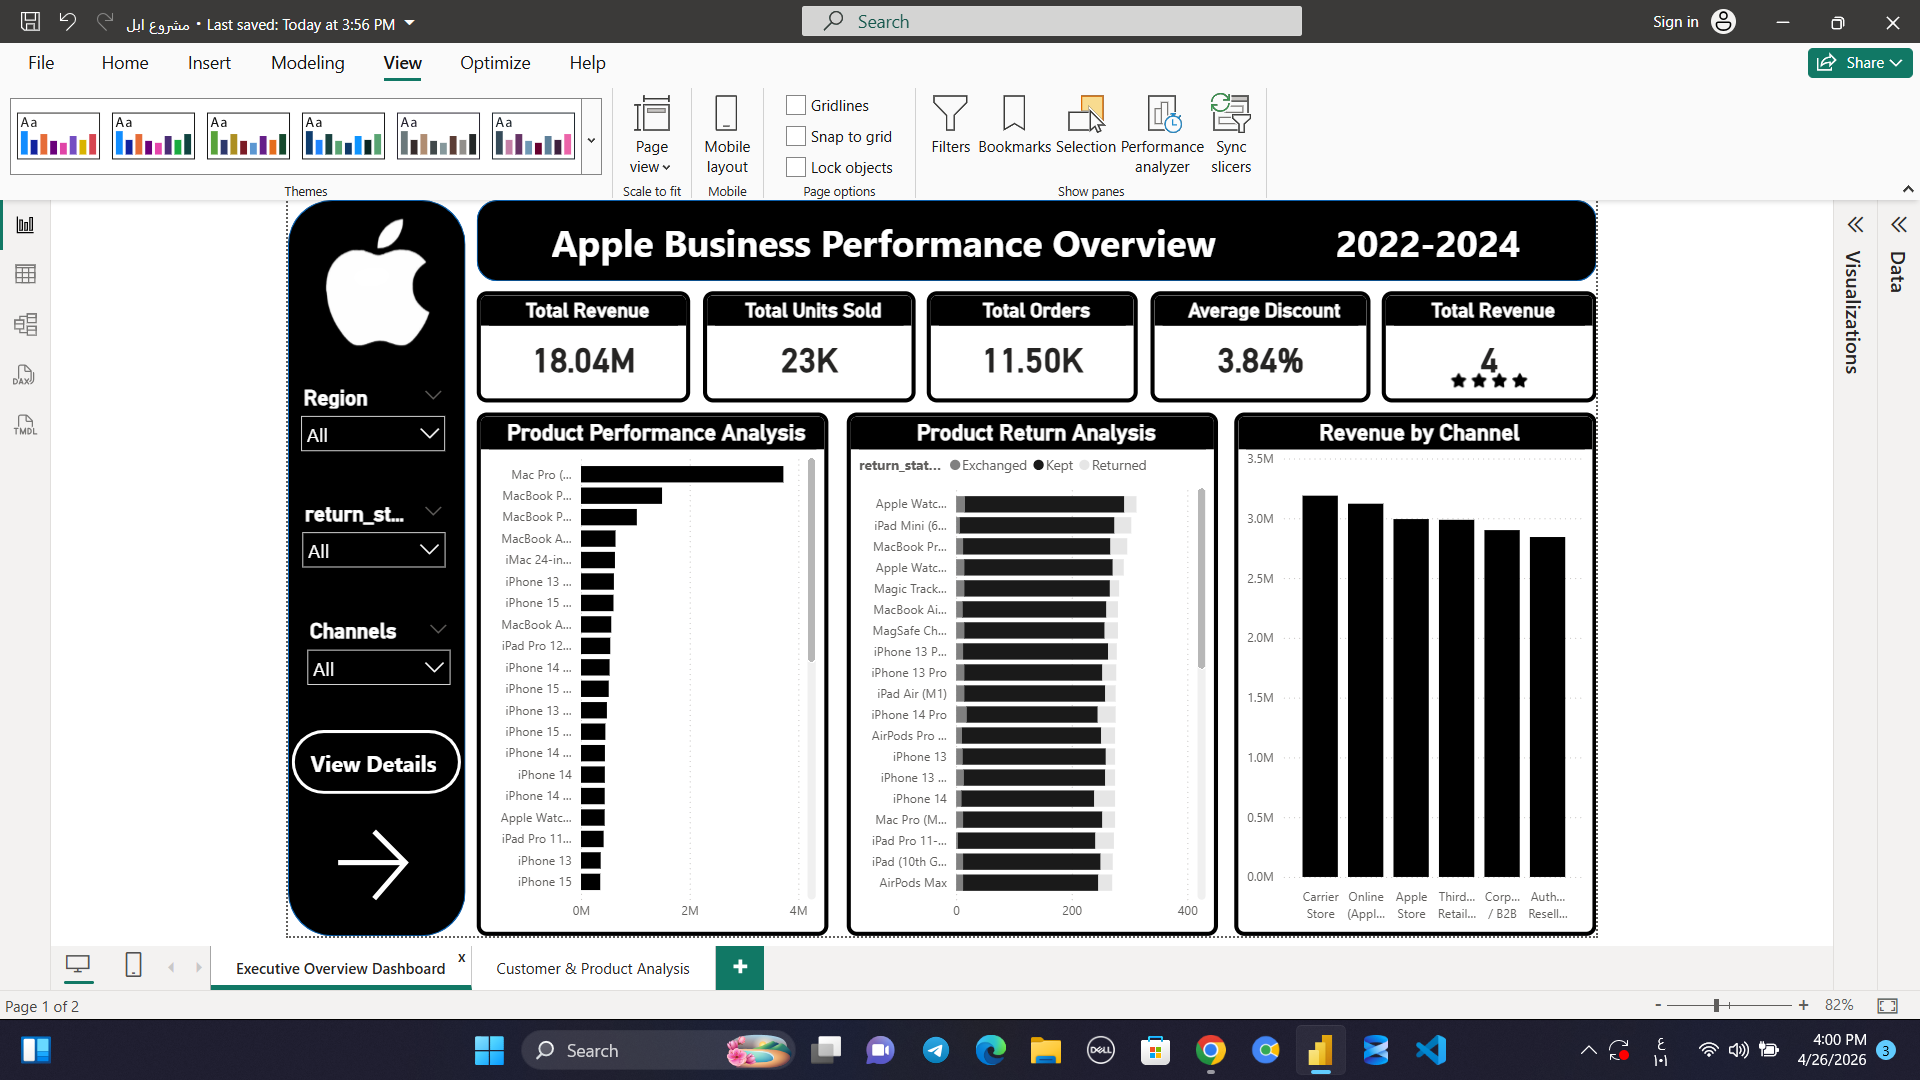

Layout of this report page (visuals, bound fields, positions):
{"tool":"powerbi","page":{"name":"Executive Overview Dashboard","canvas":[1280,720],"ordinal":0},"visuals":[{"type":"shape","box":[0,0,173.6,720.2],"z":0},{"type":"actionButton","box":[0,0,171.2,177.3],"z":1000},{"type":"shape","box":[184.6,0,1095.7,79.5],"z":2000},{"type":"actionButton","box":[239.7,12.2,686,55],"z":3000},{"type":"actionButton","box":[951.4,12.2,327.7,55],"z":4000},{"type":"card","title":"Total Revenue","fields":{"Values":["Sum(apple_global_sales_dataset.revenue_usd)"]},"box":[184.6,89.3,209.1,108.8],"z":5000},{"type":"card","title":"Total Units Sold","fields":{"Values":["Sum(apple_global_sales_dataset.units_sold)"]},"box":[405.4,89.3,207.9,108.8],"z":6000},{"type":"card","title":"Total Orders","fields":{"Values":["Count(apple_global_sales_dataset.sale_id)"]},"box":[624.9,89.3,206.7,108.8],"z":7000},{"type":"card","title":"Average Discount ","fields":{"Values":["apple_global_sales_dataset.Average Discount %"]},"box":[843.1,89.3,215.2,108.8],"z":8000},{"type":"card","title":"Total Revenue","fields":{"Values":["apple_global_sales_dataset.Avg Customer Rating"]},"box":[1069.7,89.3,210.3,108.8],"z":9000},{"type":"actionButton","box":[1127.5,127.2,95.4,99],"z":10000},{"type":"clusteredBarChart","title":"Product Performance Analysis","fields":{"Category":["apple_global_sales_dataset.product_name"],"Y":["Sum(apple_global_sales_dataset.revenue_usd)"]},"box":[184.6,207.9,343.6,512.4],"z":11000},{"type":"columnChart","title":"Revenue by Channel","fields":{"Category":["apple_global_sales_dataset.sales_channel"],"Y":["Sum(apple_global_sales_dataset.revenue_usd)"]},"box":[925.7,207.9,354.6,512.4],"z":12000},{"type":"barChart","title":"Product Return Analysis","fields":{"Category":["apple_global_sales_dataset.product_name"],"Y":["CountNonNull(apple_global_sales_dataset.sale_id)"],"Series":["apple_global_sales_dataset.return_status"]},"box":[546.6,207.9,363.2,512.4],"z":13000},{"type":"slicer","fields":{"Values":["apple_global_sales_dataset.region"]},"box":[2.8,176.7,161.4,98.8],"z":14000},{"type":"slicer","fields":{"Values":["apple_global_sales_dataset.return_status"]},"box":[4.2,289.4,160,97.4],"z":15000},{"type":"slicer","fields":{"Values":["apple_global_sales_dataset.sales_channel"]},"box":[8.3,404.9,160,97.4],"z":16000},{"type":"actionButton","box":[40.4,609,152.9,83.2],"z":17000},{"type":"shape","box":[3.7,518.5,165.6,62.6],"z":18000,"group":"g1"},{"type":"actionButton","box":[14.8,531,137.7,40.3],"z":19000,"group":"g1"},{"type":"group","id":"g1","title":"Group 1","box":[3.7,518.5,165.1,62.4],"z":19001}]}

Visuals, with their boxes on the page's 1280x720 design canvas (x1, y1, x2, y2). These are canvas units, not pixel positions in the 1920x1080 screenshot, which may show the page scaled, cropped or inside an application window:
shape: Rect(0, 0, 174, 720)
actionButton: Rect(0, 0, 171, 177)
shape: Rect(185, 0, 1280, 80)
actionButton: Rect(240, 12, 926, 67)
actionButton: Rect(951, 12, 1279, 67)
"Total Revenue" card: Rect(185, 89, 394, 198)
"Total Units Sold" card: Rect(405, 89, 613, 198)
"Total Orders" card: Rect(625, 89, 832, 198)
"Average Discount " card: Rect(843, 89, 1058, 198)
"Total Revenue" card: Rect(1070, 89, 1280, 198)
actionButton: Rect(1128, 127, 1223, 226)
"Product Performance Analysis" clusteredBarChart: Rect(185, 208, 528, 720)
"Revenue by Channel" columnChart: Rect(926, 208, 1280, 720)
"Product Return Analysis" barChart: Rect(547, 208, 910, 720)
slicer - apple_global_sales_dataset.region: Rect(3, 177, 164, 276)
slicer - apple_global_sales_dataset.return_status: Rect(4, 289, 164, 387)
slicer - apple_global_sales_dataset.sales_channel: Rect(8, 405, 168, 502)
actionButton: Rect(40, 609, 193, 692)
shape: Rect(4, 518, 169, 581)
actionButton: Rect(15, 531, 152, 571)
"Group 1" group: Rect(4, 518, 169, 581)
